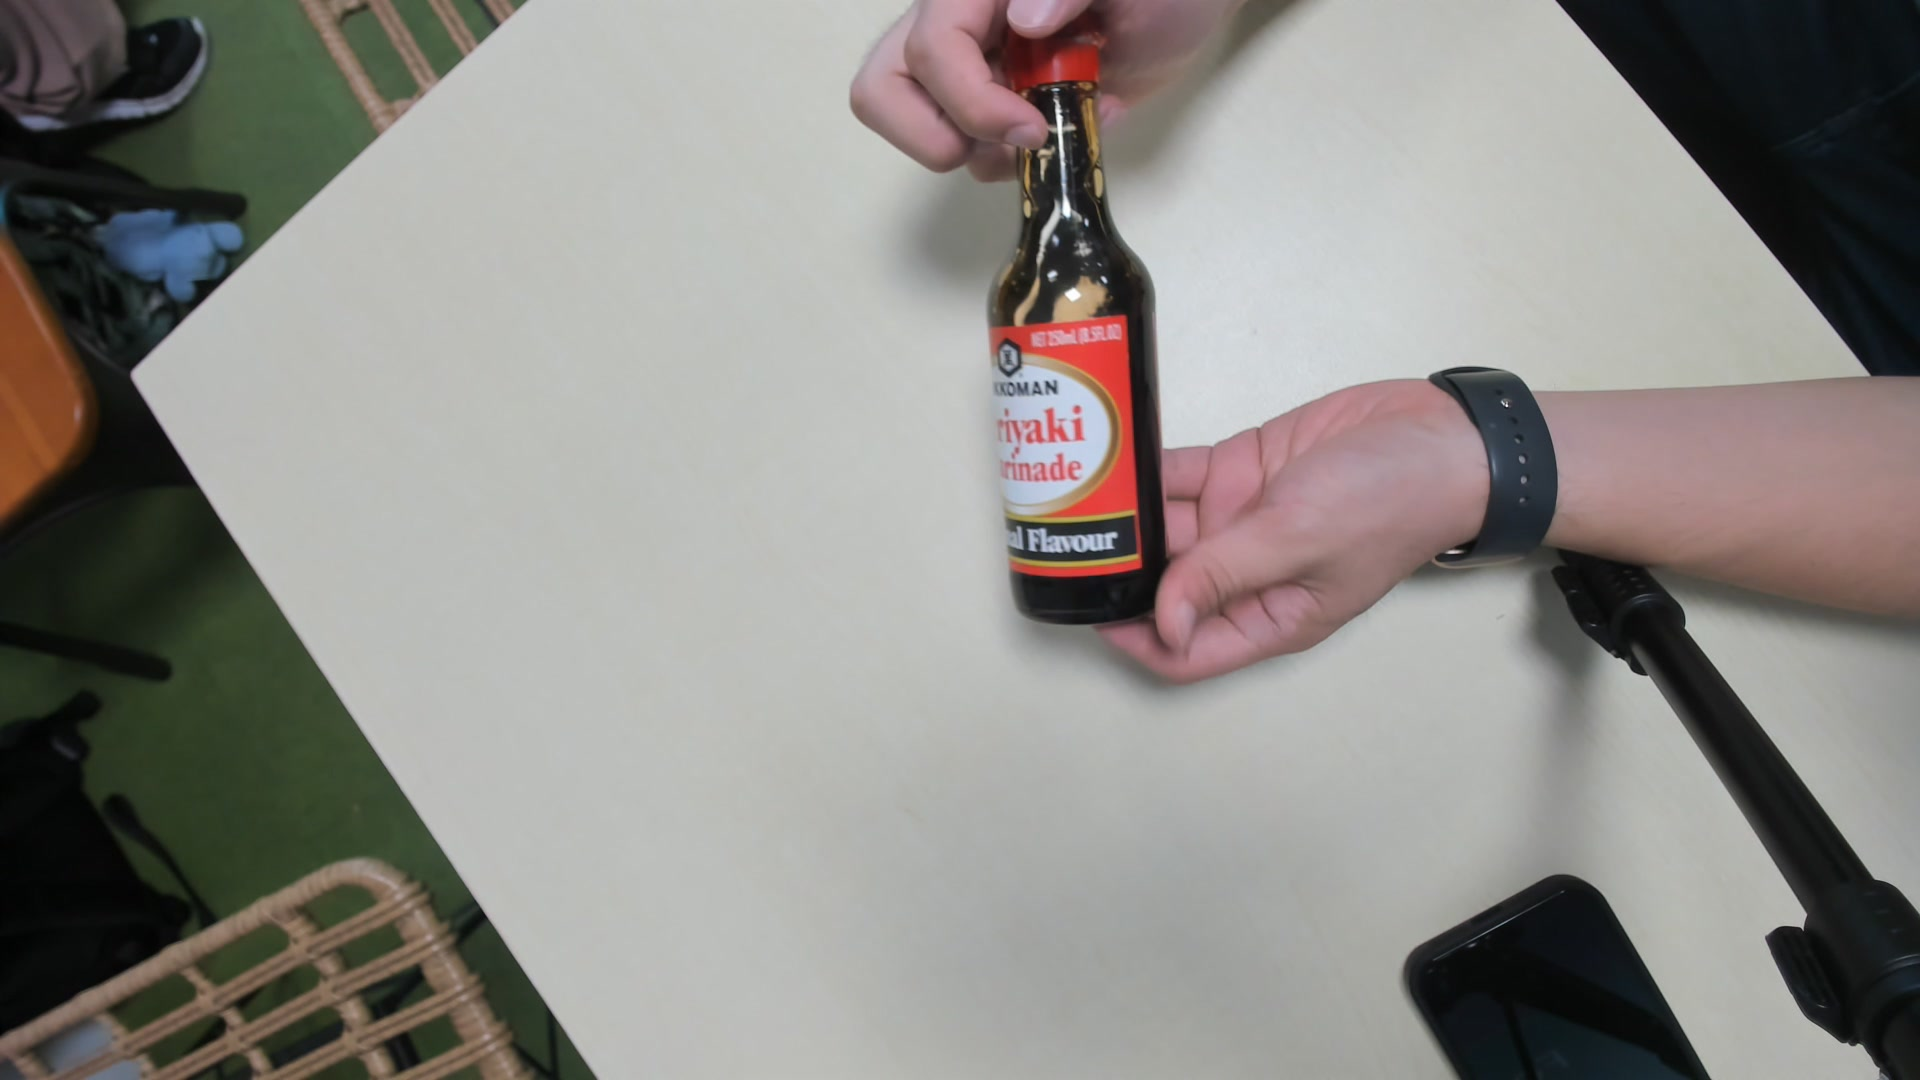OtherSauceDressing_200-299g_NonHalal_NonHealthy: (982, 26, 1167, 626)
